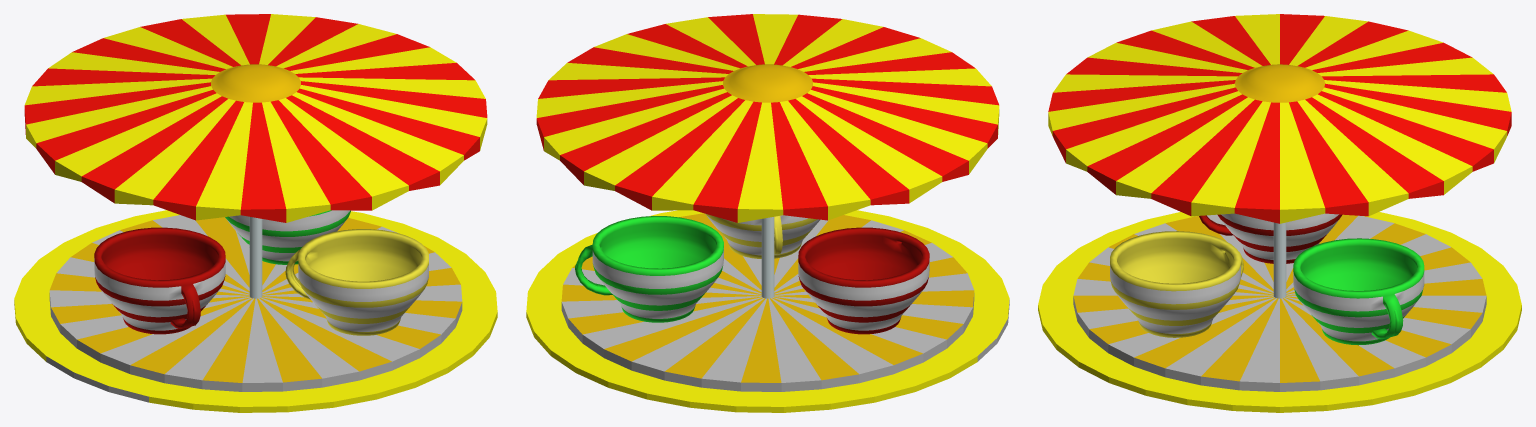
File: TeaCups.fbx
The picture shows the model from 3 angles, left to right: view 1: azimuth 30°, elevation 25°; view 2: azimuth 150°, elevation 25°; view 3: azimuth 270°, elevation 25°; orthographic projection.
Visible parts, largest first — view 1: Cylinder, Cylinder.001; view 2: Cylinder, Cylinder.001; view 3: Cylinder, Cylinder.001.
Part boxes in pixels (x1,y1,x2,y2): Cylinder: (14, 14, 497, 412); Cylinder.001: (94, 210, 428, 335); Cylinder: (526, 14, 1009, 412); Cylinder.001: (575, 213, 929, 334); Cylinder: (1038, 14, 1521, 412); Cylinder.001: (1110, 213, 1424, 345).
Size of the model in its own units: 360 by 194 by 360.
